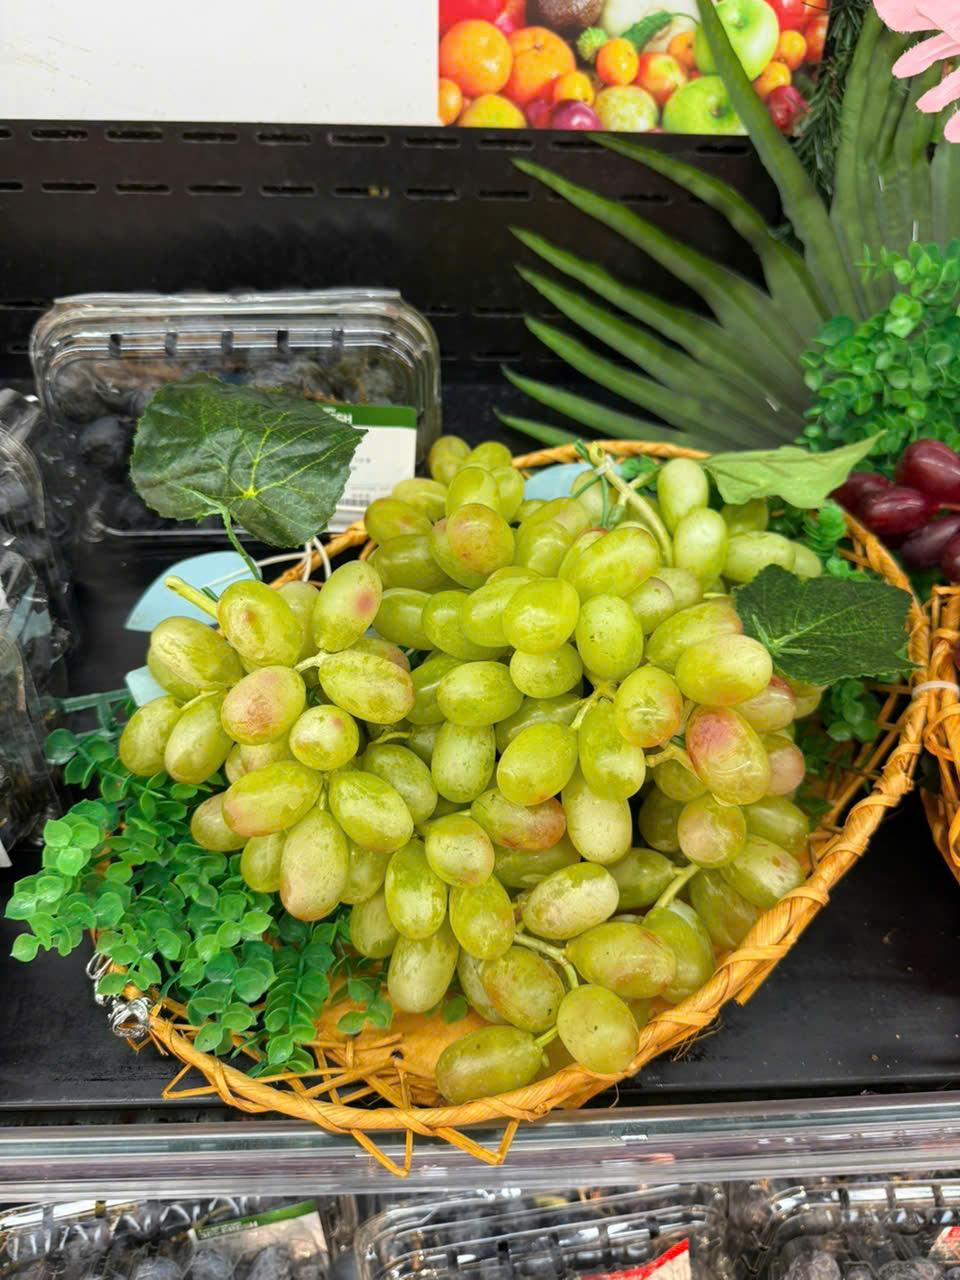grape: (380, 456, 763, 1060), (132, 591, 537, 1048)
